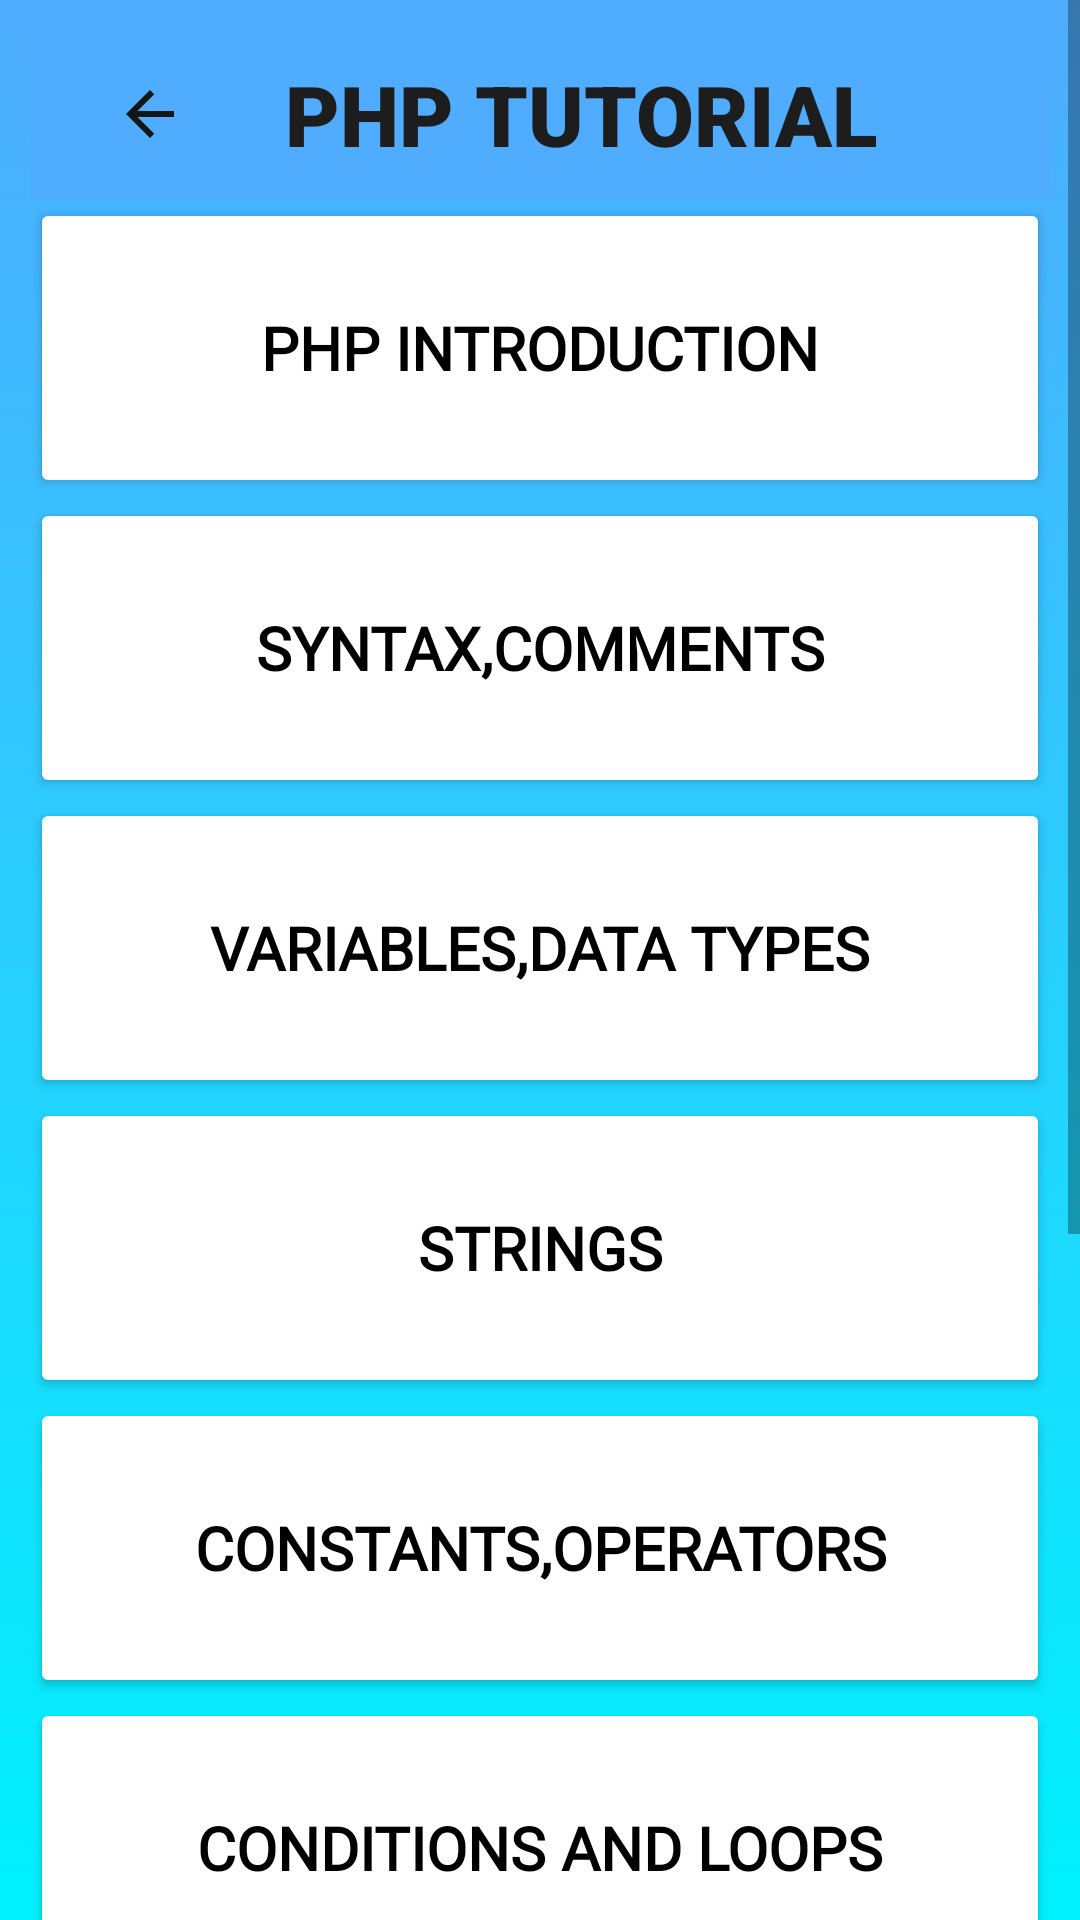

Icons on this 1080px×1920px Android screen, each with the point to tap as [x,y]:
back: [150,114]
